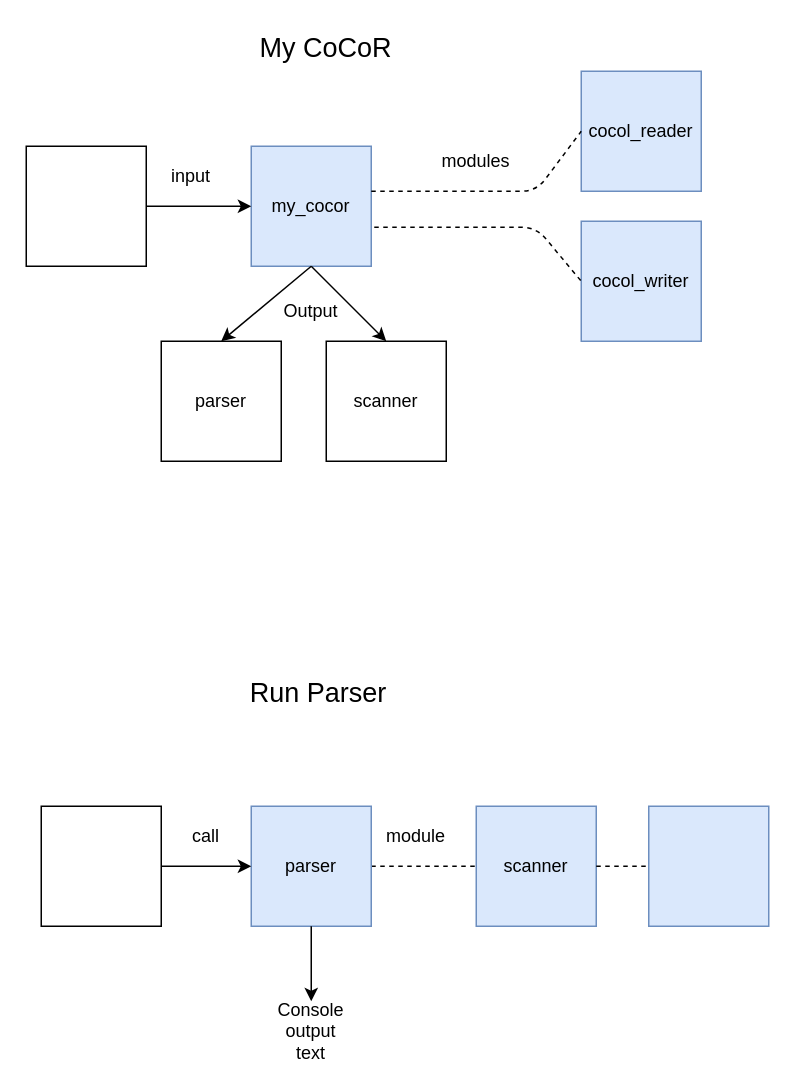
The diagram is 795 pixels wide and 1089 high, and some of its shapes have lost their labels. Here are the shapes that lost their labels. From the top down, the box of each, then its label:
(25, 145, 146, 266): COCOL file
(40, 805, 161, 926): run_parser
(647, 805, 769, 926): lex
